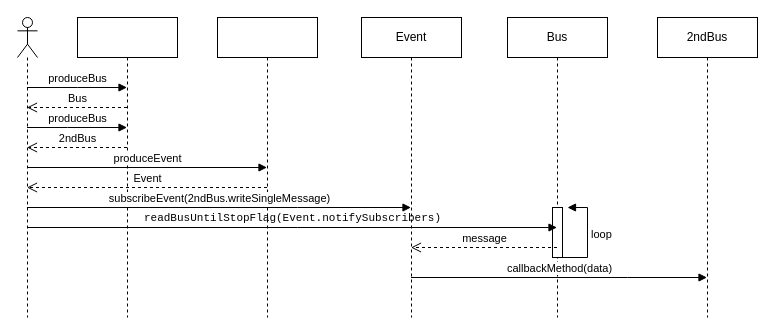
Image size: 775x335. Some labels were removed from this diagram. The shapes that lost their labels are listed below. From the top down, each one's box as (x1, y1, x2, y2) in pixels, then its label:
(76, 16, 178, 318): BusFactory
(216, 16, 318, 318): EventManager
